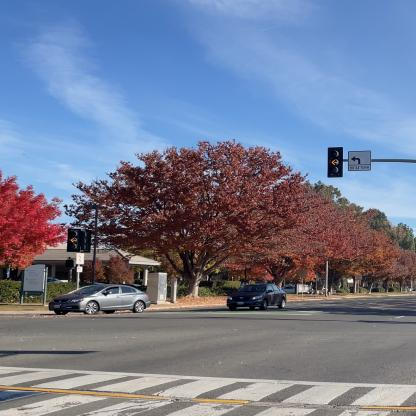left-yellow: (326, 146, 344, 178), (66, 226, 83, 254)
